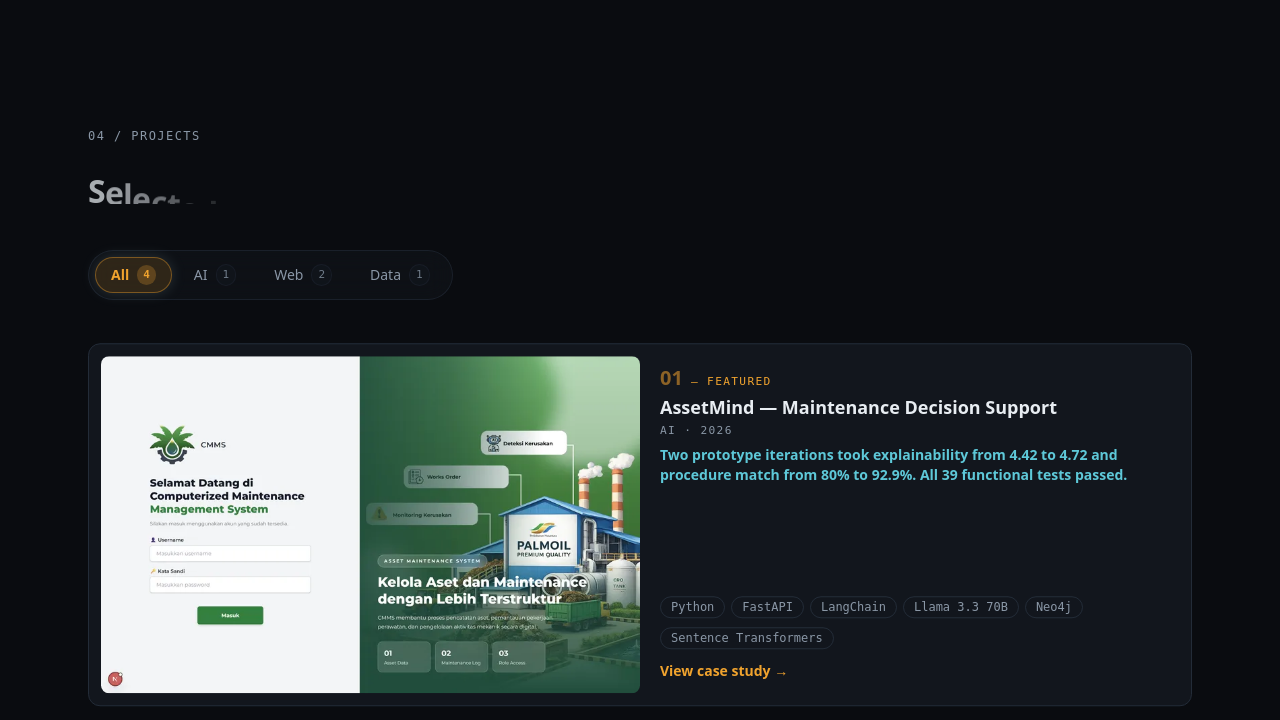
project detail modal › shows the solution and outcome, which the card never had room for
The image size is (1280, 720).
Click the button "AssetMind — Maintenance Decision Support".
click(858, 408)  # box [660,396,1057,419]
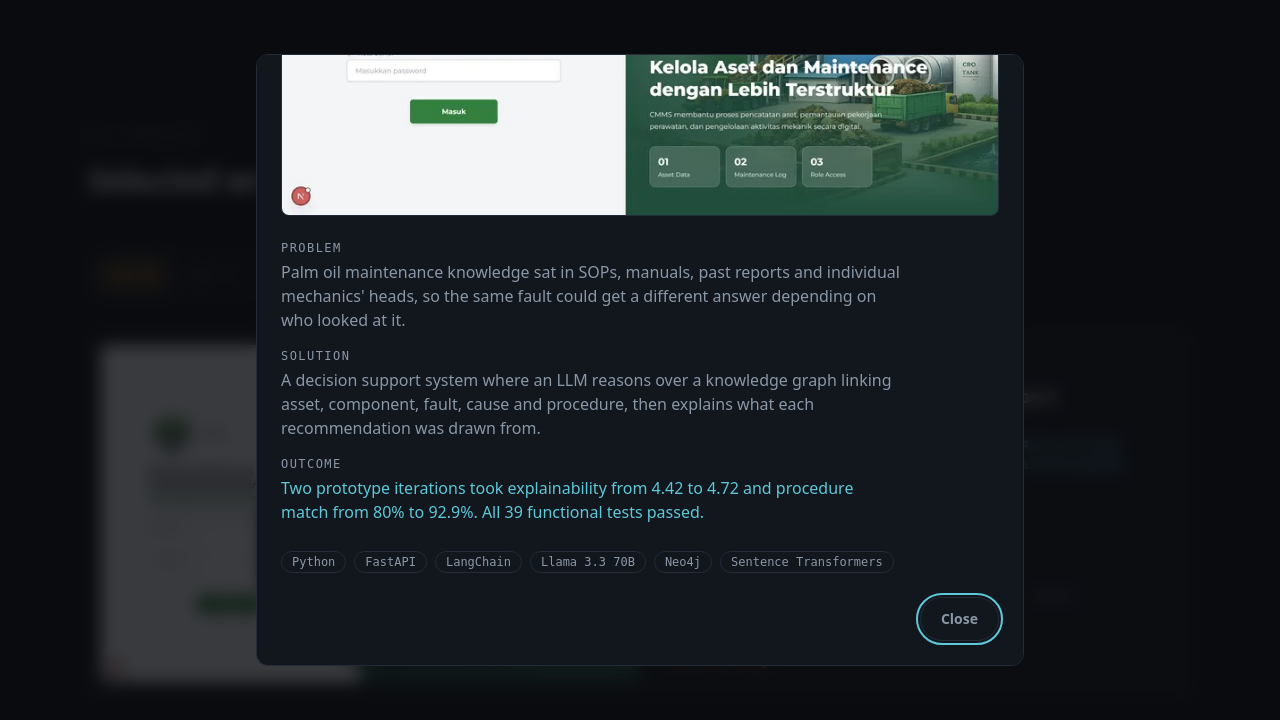
Expected: the text "A decision support system where an LLM reasons over a knowledge graph linking asset, component, fault, cause and procedu" is shown, [281,368,892,438]
Expected: the text "Two prototype iterations took explainability from 4.42 to 4.72 and procedure match from 80% to 92.9%. All 39 functional " is shown, [281,476,853,522]
Expected: the text "Palm oil maintenance knowledge sat in SOPs, manuals, past reports and individual mechanics' heads, so the same fault cou" is shown, [281,260,900,330]
